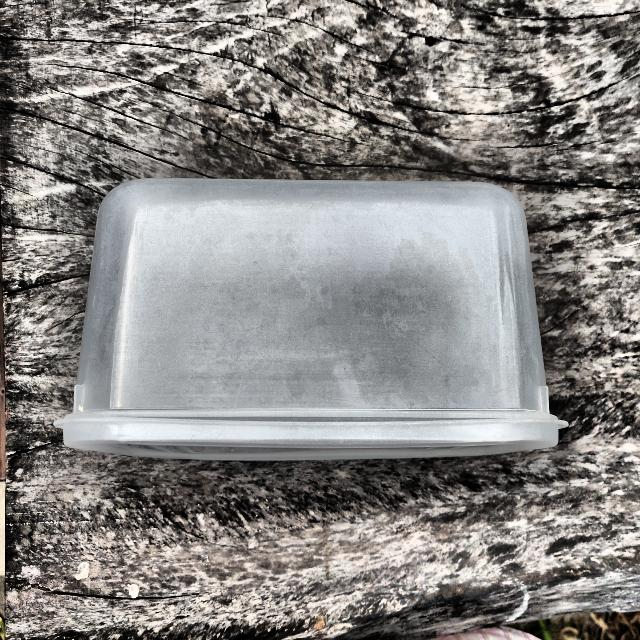plastic container: (46, 162, 586, 483)
